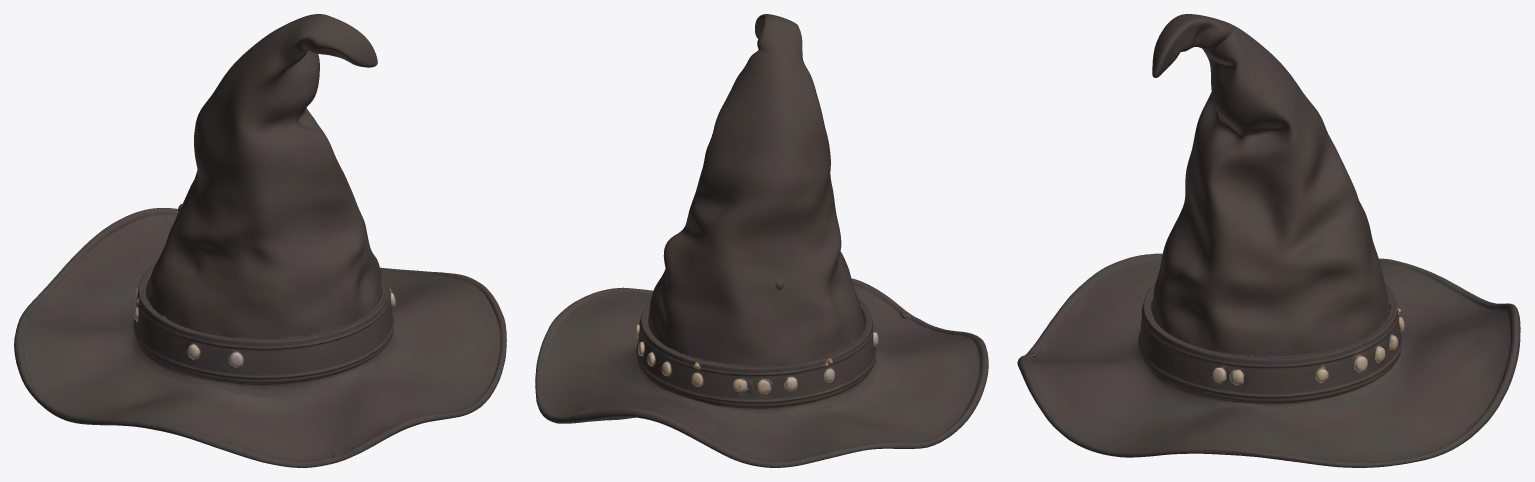
File: detailed_realistic_model_sortinghat_13.glb
3 renders of one model, left to right at view 1: azimuth 30°, elevation 25°; view 2: azimuth 150°, elevation 25°; view 3: azimuth 270°, elevation 25°, orthographic. The views are drawn at different scales.
Parts seen in each view (by area): view 1: tripo_node_f857f019-e828-4ec4-a357-717c65ca869d; view 2: tripo_node_f857f019-e828-4ec4-a357-717c65ca869d; view 3: tripo_node_f857f019-e828-4ec4-a357-717c65ca869d.
Boxes of the visible parts, box(x1,y1,x2,y2) form: tripo_node_f857f019-e828-4ec4-a357-717c65ca869d: box(14, 14, 506, 467); tripo_node_f857f019-e828-4ec4-a357-717c65ca869d: box(535, 14, 988, 467); tripo_node_f857f019-e828-4ec4-a357-717c65ca869d: box(1017, 14, 1520, 467).
Bounding box in the file's own units: 0.9936 × 0.8304 × 1.
1 material, 1 textured.
